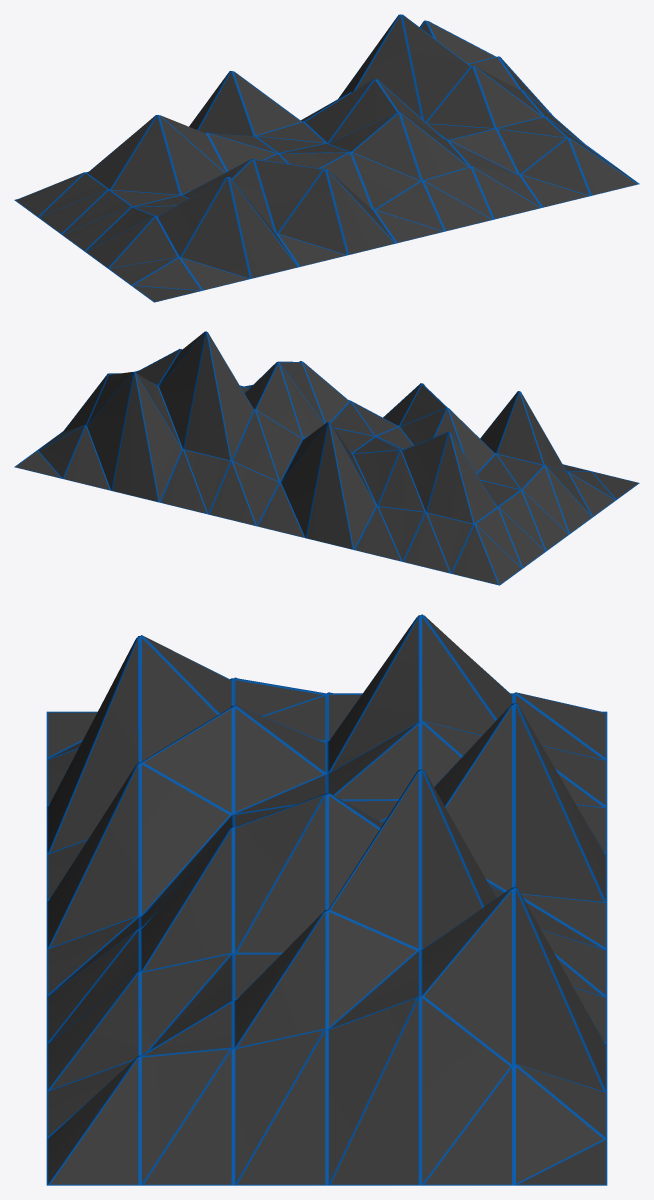
The model's file is mountain2.fbx.
3 views of the same model, one above another, from view 1: azimuth 30°, elevation 25°; view 2: azimuth 150°, elevation 25°; view 3: azimuth 270°, elevation 25° (orthographic). The views are drawn at different scales.
Parts seen in each view (by area): view 1: pPlane1; view 2: pPlane1; view 3: pPlane1.
Boxes of the visible parts, x1,y1,x2,y2 form: pPlane1: (14, 14, 639, 302); pPlane1: (14, 331, 639, 585); pPlane1: (46, 614, 607, 1185).
Size of the model in its own units: 100 by 26.81 by 50.
